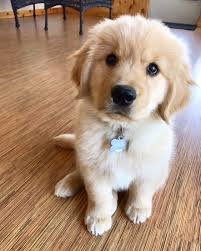Golden Retriever: (49, 9, 198, 239)
